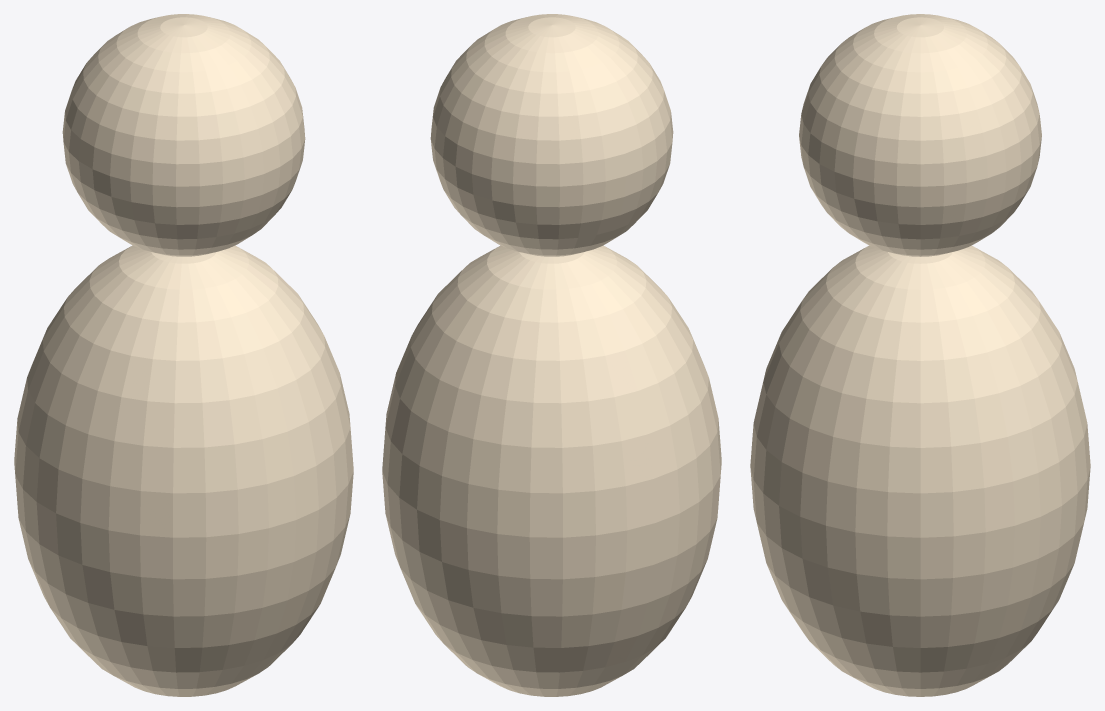
Rendered from pedestrian.glb.
3 views of the same model, side by side, from view 1: azimuth 30°, elevation 25°; view 2: azimuth 150°, elevation 25°; view 3: azimuth 270°, elevation 25° (orthographic).
Parts seen in each view (by area): view 1: body, head; view 2: body, head; view 3: body, head.
Part boxes in pixels (x1,y1,x2,y2): body: (14, 245, 353, 696); head: (62, 14, 305, 256); body: (382, 245, 721, 696); head: (430, 14, 673, 256); body: (750, 245, 1090, 696); head: (799, 14, 1041, 256).
Size of the model in its own units: 1.4 by 3 by 1.4.
